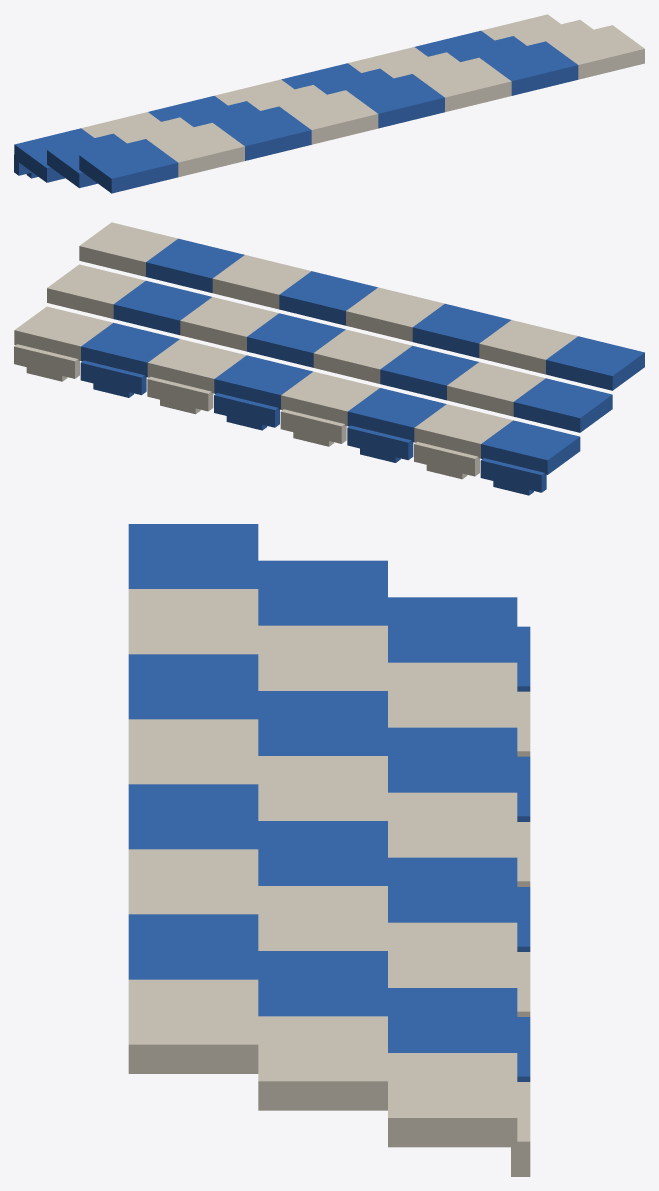
File: cp-shop-awning-blue.glb
The picture shows the model from 3 angles, top to bottom: view 1: azimuth 30°, elevation 25°; view 2: azimuth 150°, elevation 25°; view 3: azimuth 270°, elevation 25°; orthographic projection. The views are drawn at different scales.
Visible parts, largest first — view 1: box-prop; view 2: box-prop; view 3: box-prop.
Part boxes in pixels (bbox=[...]): box-prop: bbox=[14, 14, 644, 193]; box-prop: bbox=[14, 222, 644, 495]; box-prop: bbox=[128, 524, 530, 1176].
Size of the model in its own units: 7.6 by 1 by 2.48.
